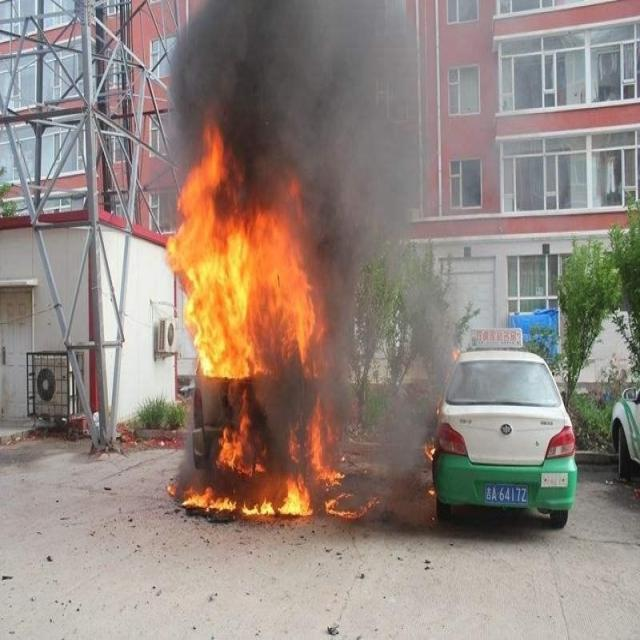Fire: (164, 123, 326, 380), (166, 390, 380, 521), (422, 439, 436, 462)
Smoke: (165, 1, 464, 506)
